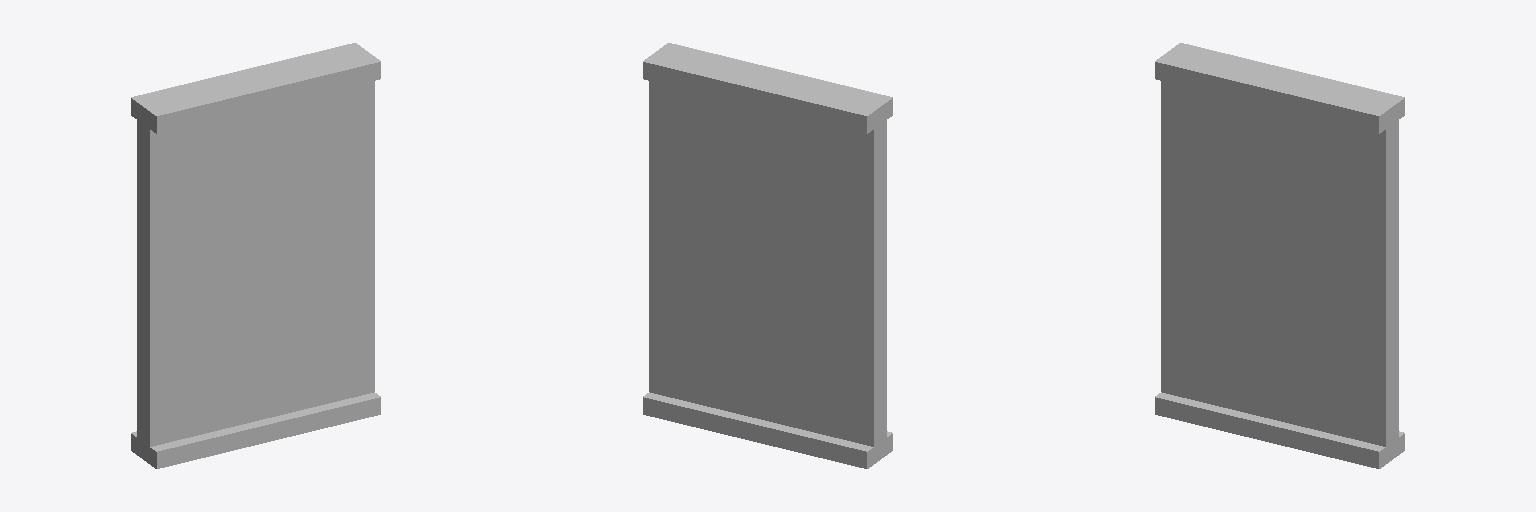
Rendered from Wall.obj.
3 renders of one model, left to right at view 1: azimuth 30°, elevation 25°; view 2: azimuth 150°, elevation 25°; view 3: azimuth 330°, elevation 25°, orthographic.
Parts seen in each view (by area): view 1: Wall; view 2: Wall; view 3: Wall.
Boxes of the visible parts, box(x1,y1,x2,y2) form: Wall: box(131, 43, 380, 468); Wall: box(643, 43, 892, 468); Wall: box(1155, 43, 1404, 468).
Bounding box in the file's own units: 20 × 29.99 × 4.